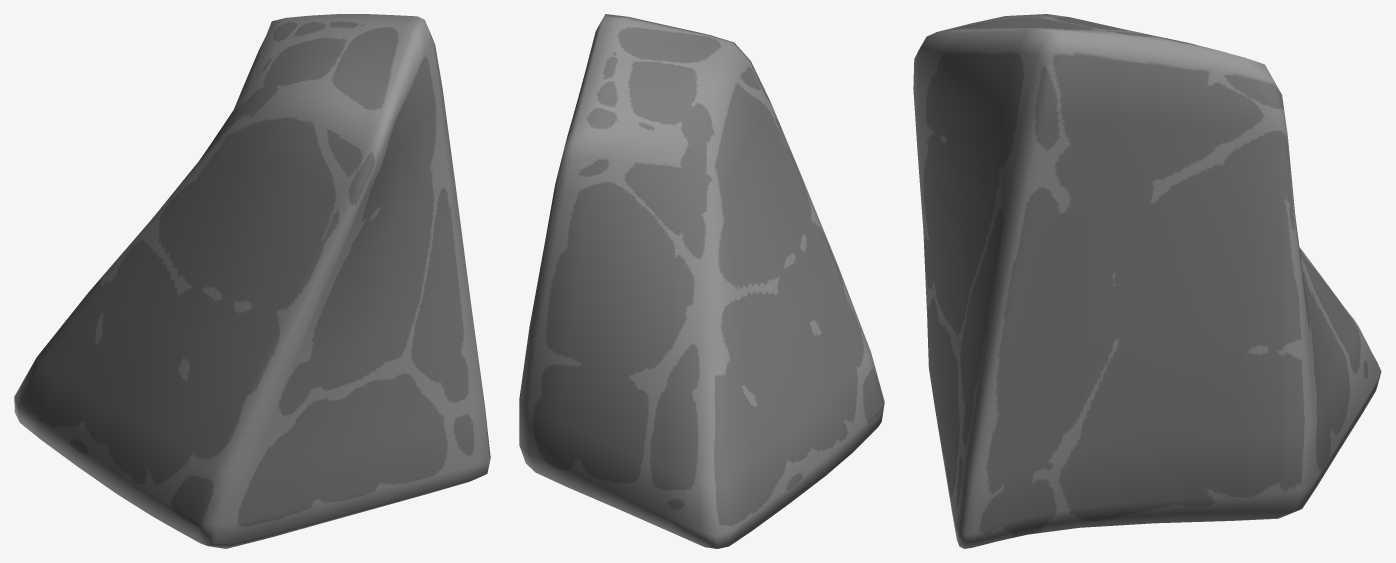
The model's file is CTS_E_PalmRockC.fbx.
The picture shows the model from 3 angles, left to right: view 1: azimuth 30°, elevation 25°; view 2: azimuth 150°, elevation 25°; view 3: azimuth 270°, elevation 25°; orthographic projection. The views are drawn at different scales.
Visible parts, largest first — view 1: CTS_E_PalmRockC; view 2: CTS_E_PalmRockC; view 3: CTS_E_PalmRockC.
Part boxes in pixels (bbox=[...]): CTS_E_PalmRockC: bbox=[14, 14, 490, 548]; CTS_E_PalmRockC: bbox=[519, 14, 884, 548]; CTS_E_PalmRockC: bbox=[913, 14, 1381, 548].
Size of the model in its own units: 448 by 605 by 505.
